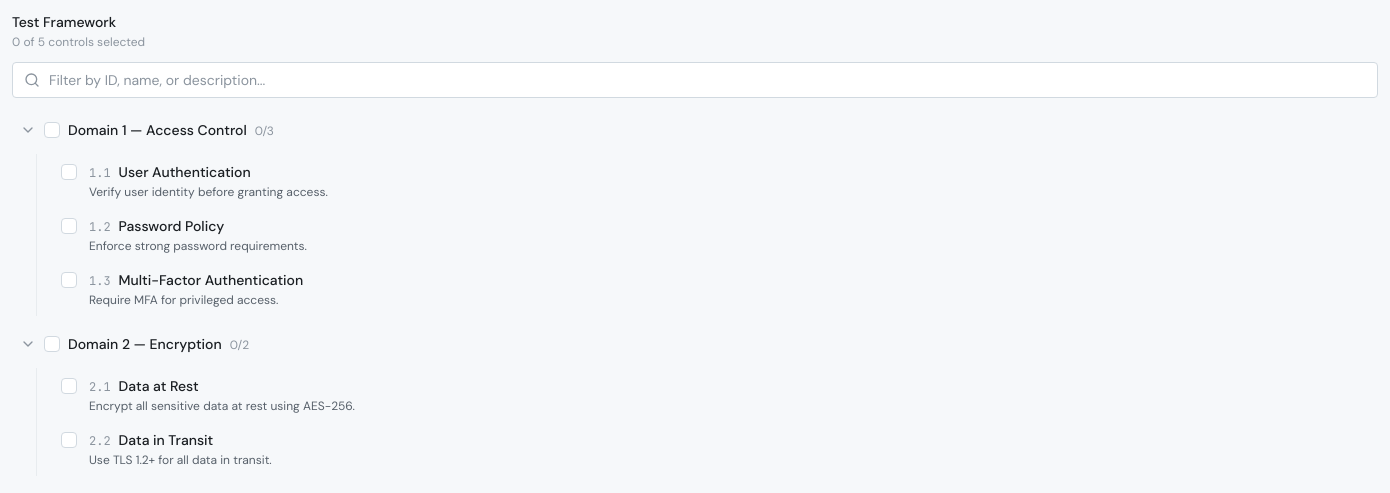
ControlSelector › domain collapse › collapses domain controls when clicking chevron
Expected: the text "User Authentication" is shown, [119,162,251,182]
Click the button named "Collapse Domain 1 — Access Control": (28, 130) [20,122,36,138]
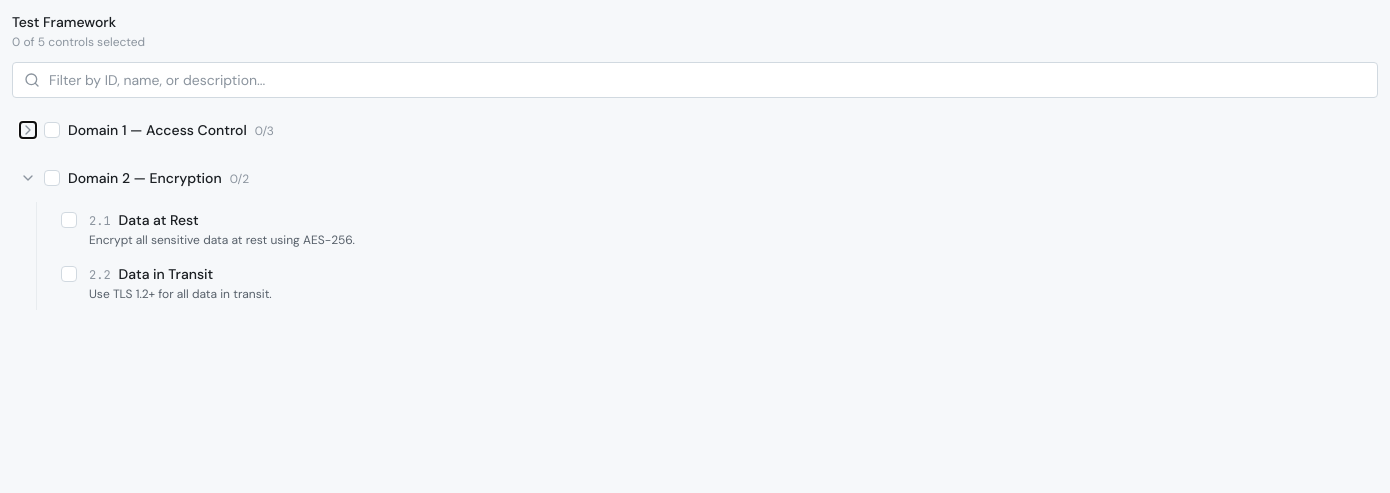
Expected: the text "Domain 1 — Access Control" is shown, [68,121,247,139]
Result: the text "User Authentication" is gone
